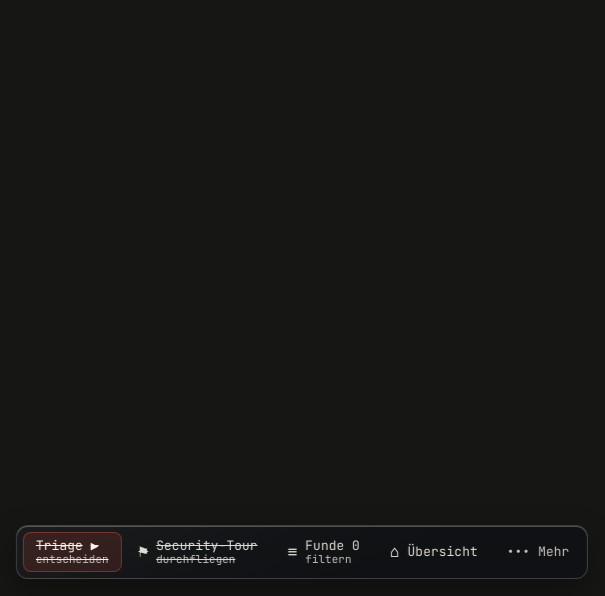
Test: Selbst-Erkennung beim ersten Start › names what it took up, as words, above the very switches it moved
Click the button with id "city-more-button" at (538, 552), box [495,532,581,572]
(page scrolled)
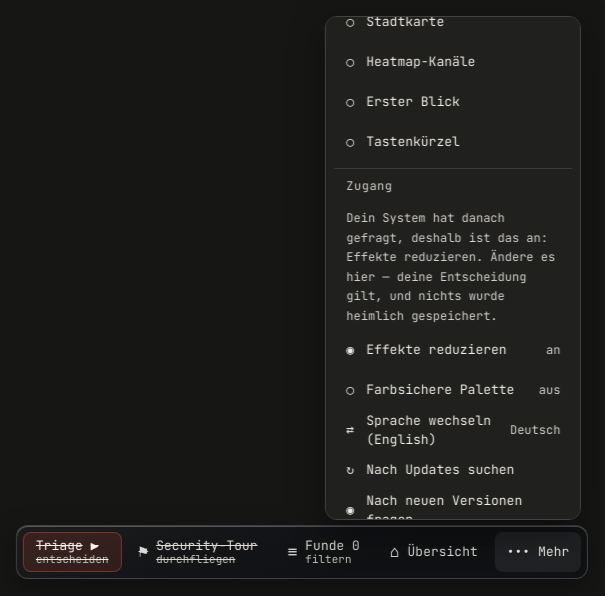
Expected: the text with class "access-system-note" is shown, [346,209,560,326]
Expected: the text with class "access-system-note" shows "Effekte reduzieren", [346,210,555,324]
Expected: the text with class "access-system-note" shows "Dein System hat danach gefragt, deshalb ist das an:", [346,210,555,324]
